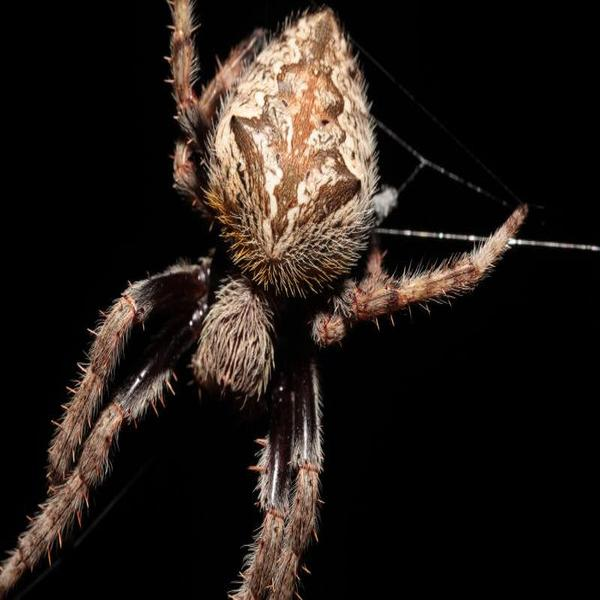Garden_Orb_Weaver_Spider: (3, 3, 527, 583)
